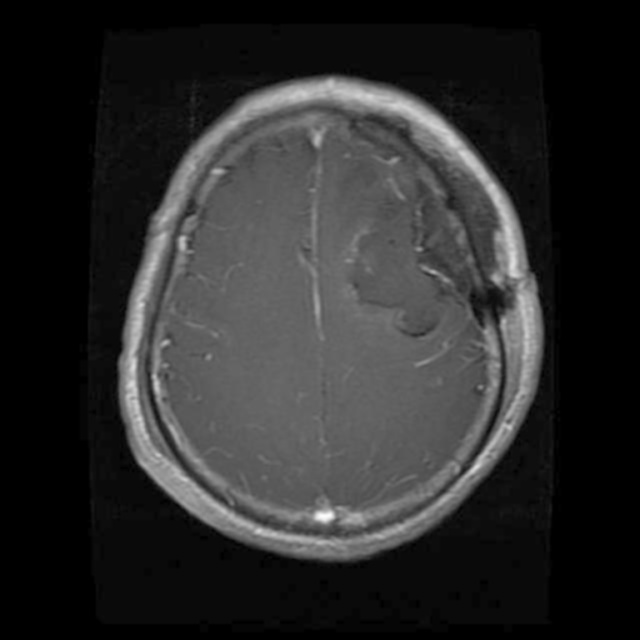pituitary tumor: (359, 192, 485, 334)
